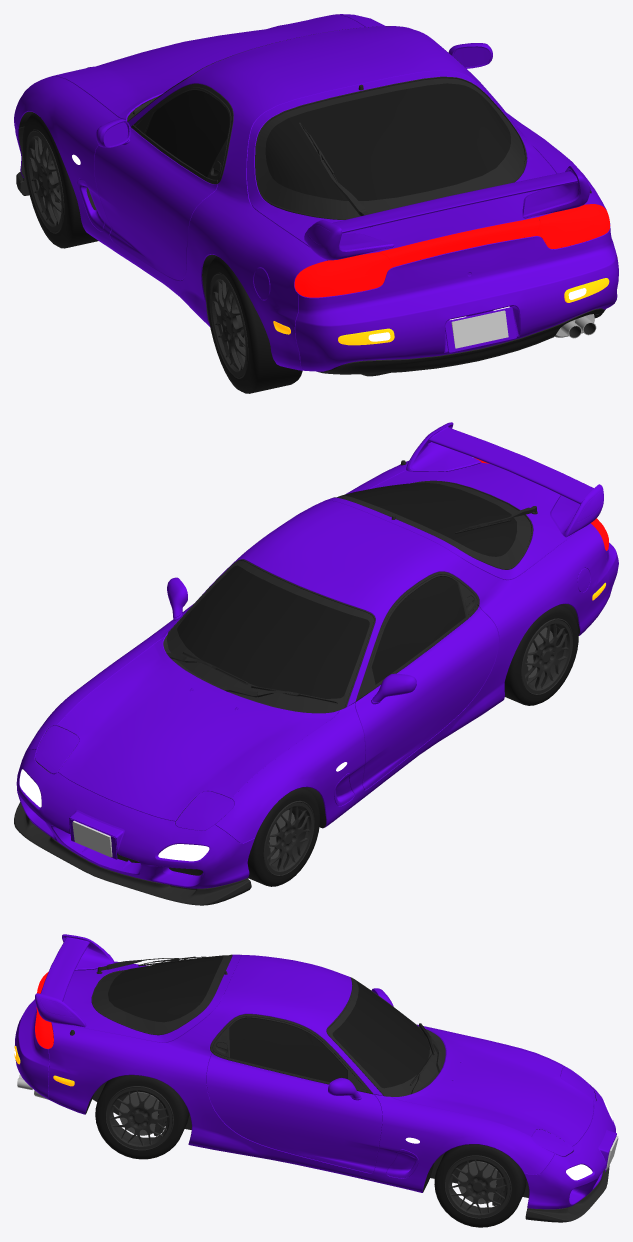
Rendered from car.glb.
3 renders of one model, top to bottom at view 1: azimuth 30°, elevation 25°; view 2: azimuth 150°, elevation 25°; view 3: azimuth 270°, elevation 25°, orthographic. The views are drawn at different scales.
Visible parts, largest first — view 1: Mazda RX-7, Rear Wheels, Front Left Wheel; view 2: Mazda RX-7, Rear Wheels, Front Left Wheel, Lights; view 3: Mazda RX-7, Rear Wheels, Front Right Wheel, Lights.
Boxes of the visible parts, bbox=[...] form: Mazda RX-7: bbox=[14, 14, 618, 376]; Rear Wheels: bbox=[206, 256, 605, 393]; Front Left Wheel: bbox=[22, 113, 98, 248]; Mazda RX-7: bbox=[14, 422, 618, 905]; Rear Wheels: bbox=[504, 604, 578, 705]; Front Left Wheel: bbox=[247, 787, 319, 886]; Lights: bbox=[35, 725, 234, 830]; Mazda RX-7: bbox=[14, 934, 618, 1222]; Rear Wheels: bbox=[95, 1075, 189, 1159]; Front Right Wheel: bbox=[434, 1144, 526, 1227]; Lights: bbox=[531, 1067, 595, 1156].
Size of the model in its own units: 0.9432 by 0.6376 by 1.79.
